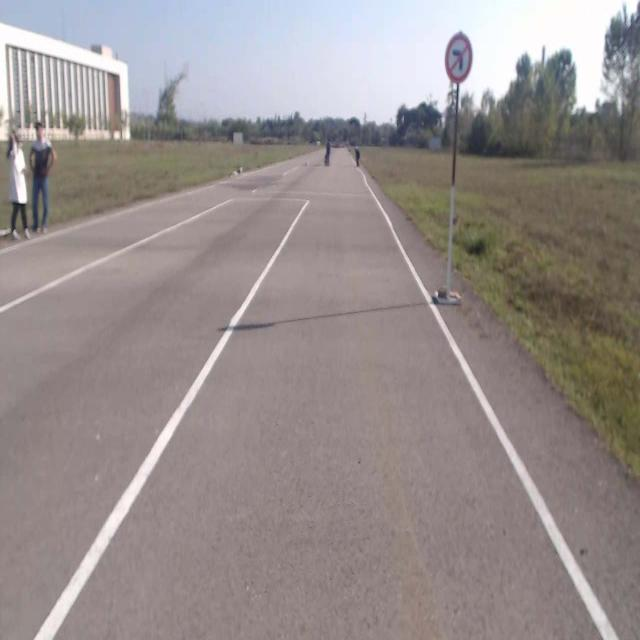soladonulmez: (446, 34, 472, 82)
